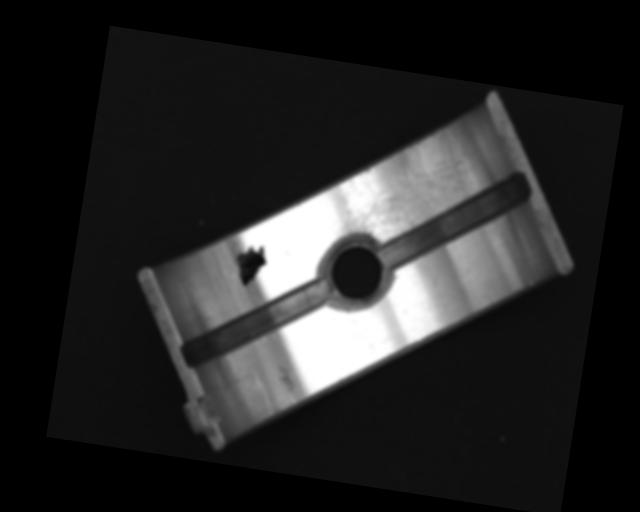blot: (231, 242, 270, 291)
bruise: (273, 363, 299, 393)
gap: (376, 155, 533, 289), (177, 262, 328, 388)
hole: (313, 229, 399, 316)
scratch: (338, 111, 485, 260)
